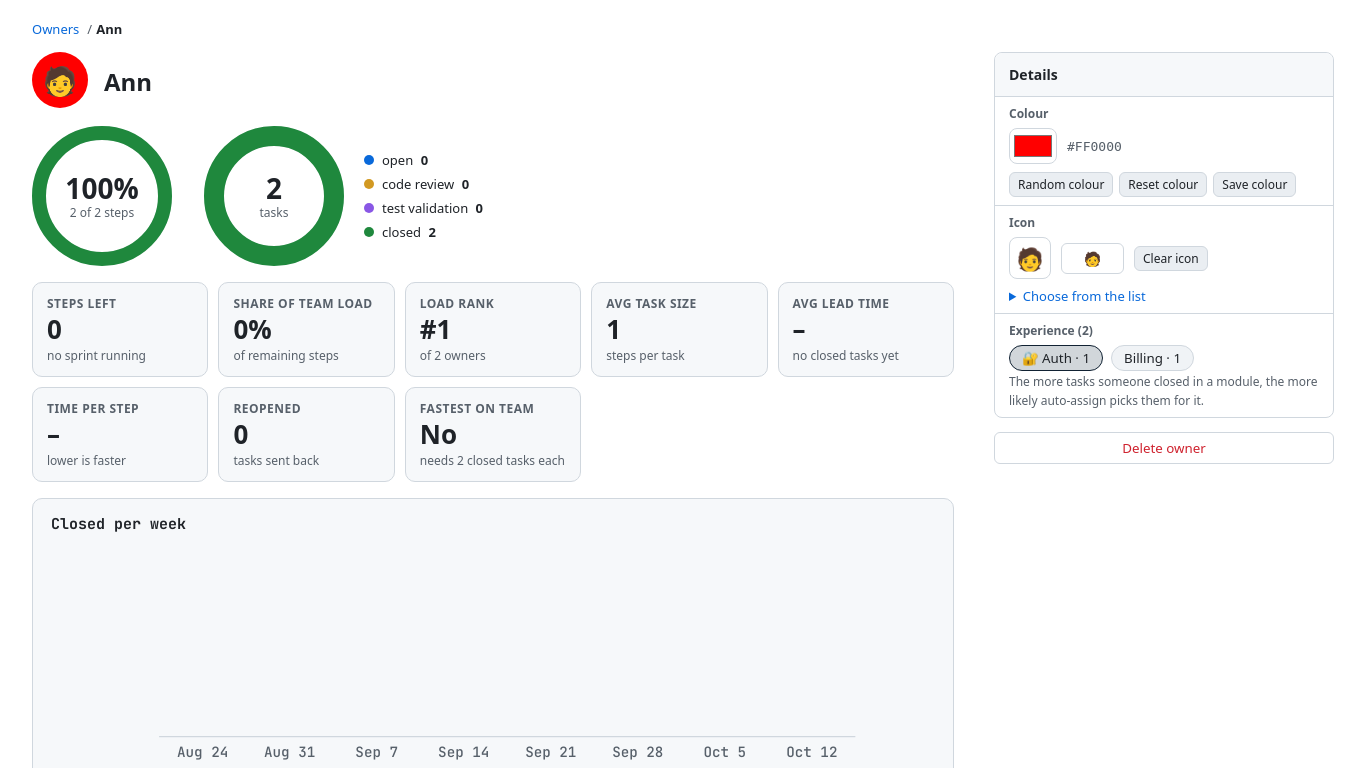
owner page › discard drops the draft
The width and height of the screenshot is (1366, 768).
Type "x" into the text box named "name" at [528, 80], box [94,60,962,100]
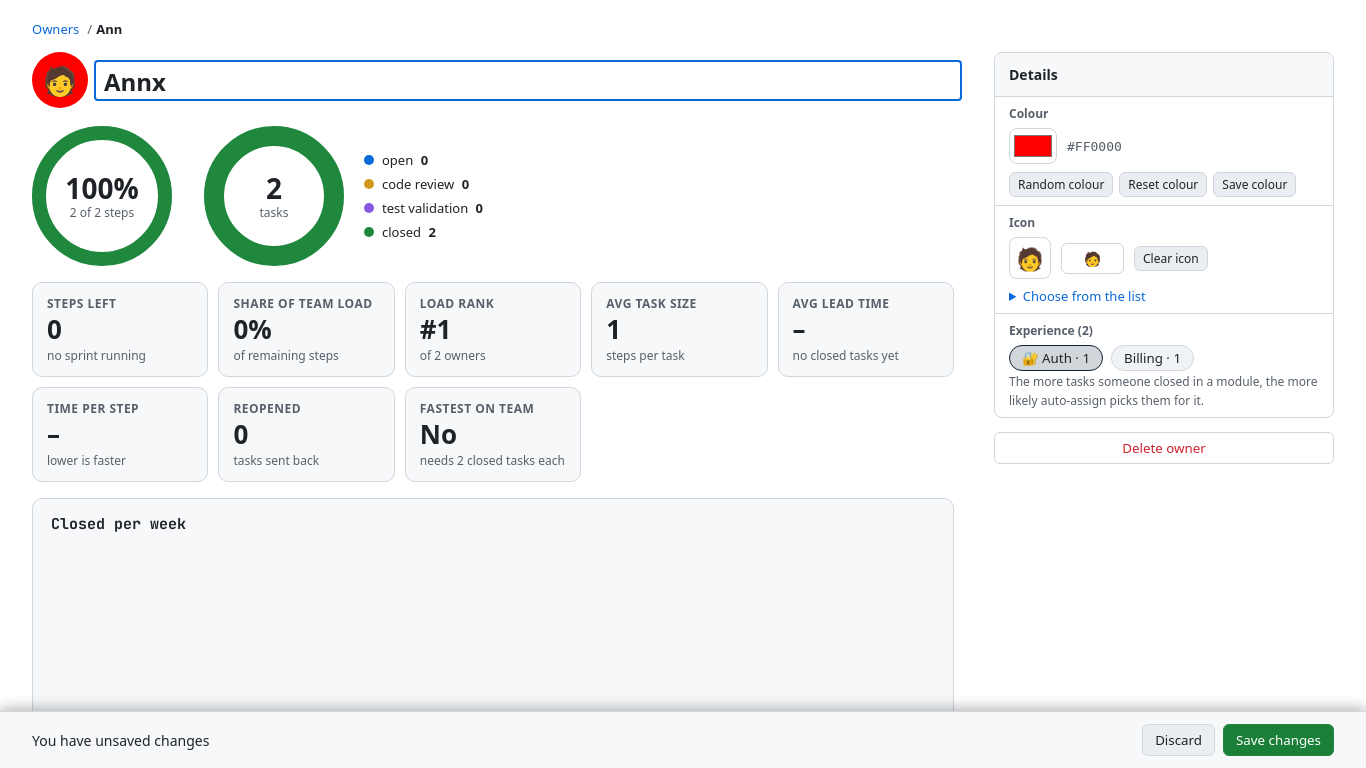
Click the button "Discard" at [1179, 740], box [1142,724,1215,756]
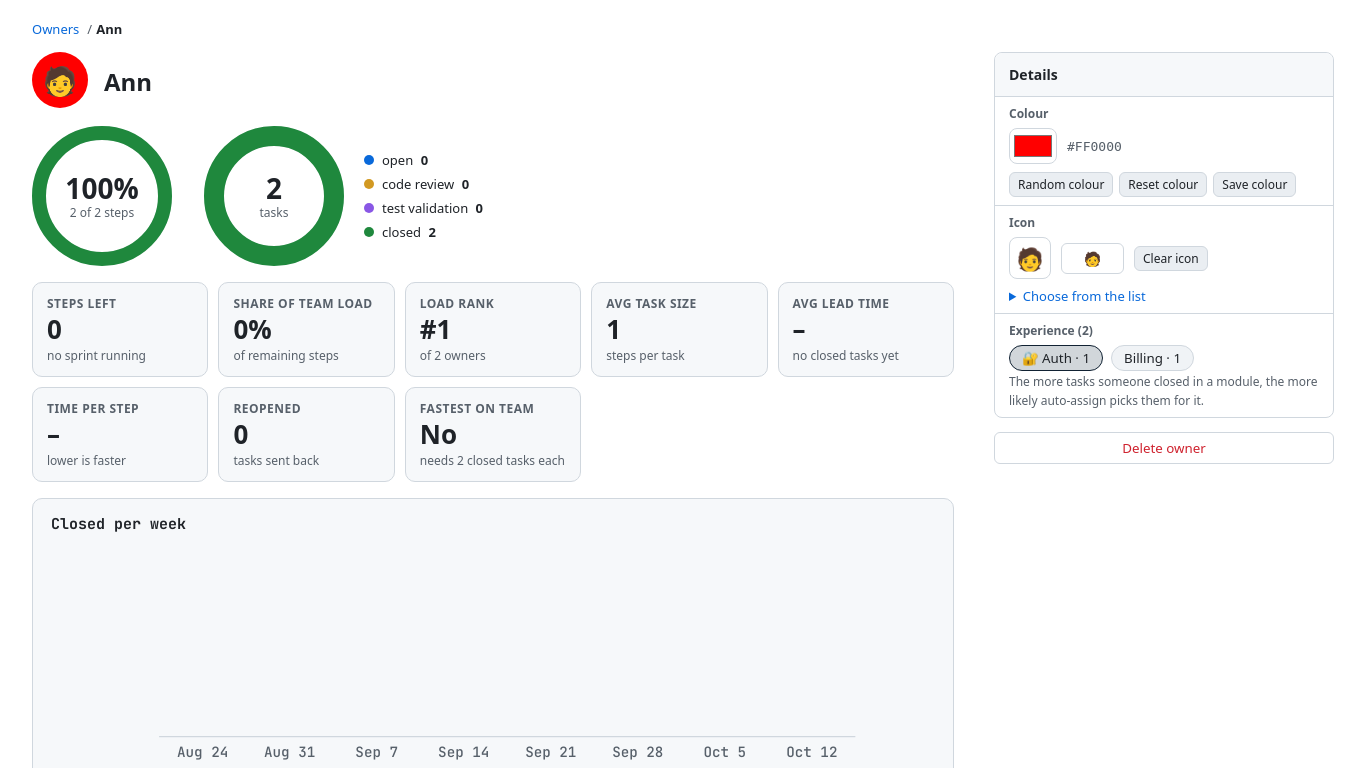
Result: the text box named "name" holds "Ann" at [94,60,962,100]
